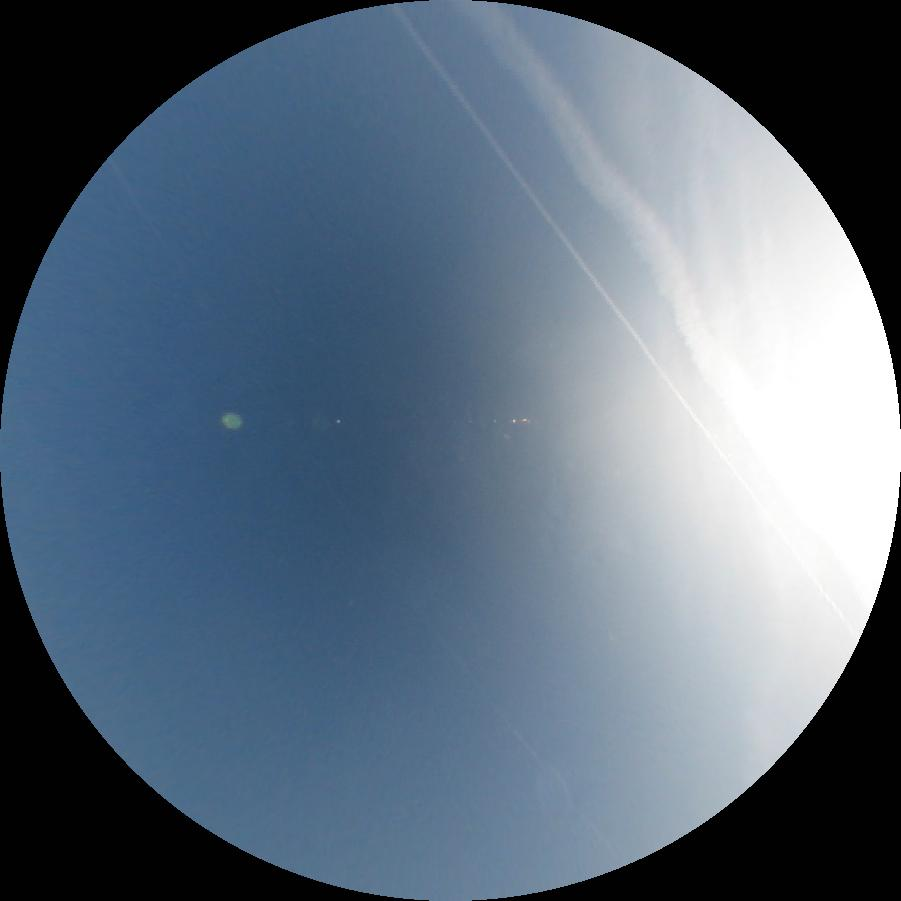contrail veryold: (456, 2, 881, 612)
contrail young: (108, 157, 623, 862), (391, 3, 858, 638)
sun: (717, 166, 895, 598)
